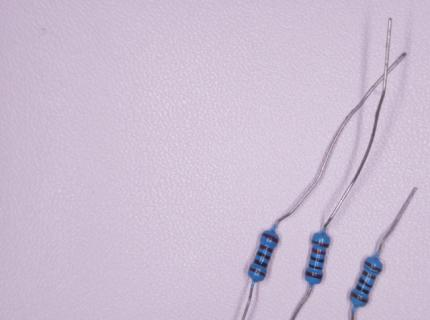Black band: (358, 277, 373, 288), (356, 285, 370, 295), (254, 259, 268, 268), (256, 252, 271, 260)
Brown band: (351, 292, 368, 303), (365, 261, 382, 272), (263, 233, 279, 243), (362, 270, 376, 281), (259, 244, 274, 254), (250, 268, 266, 277)
